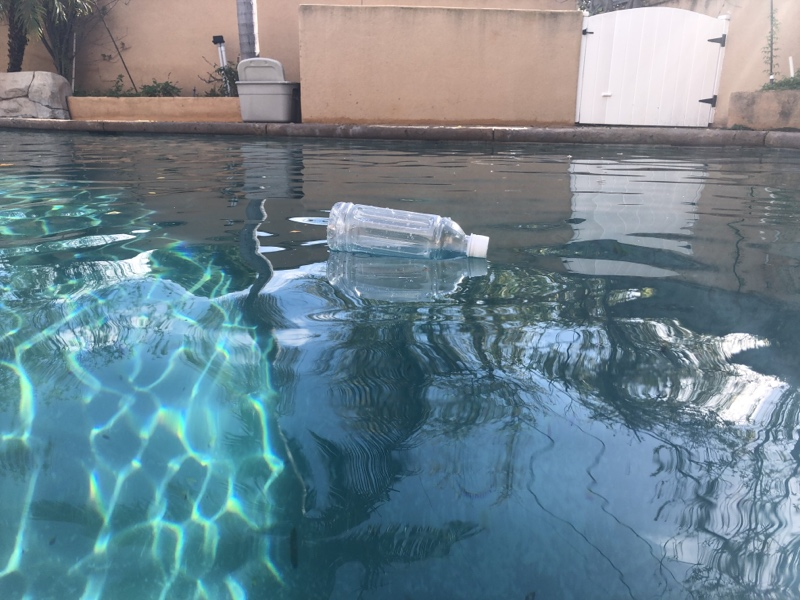Plastic Bottle: (324, 196, 493, 264)
